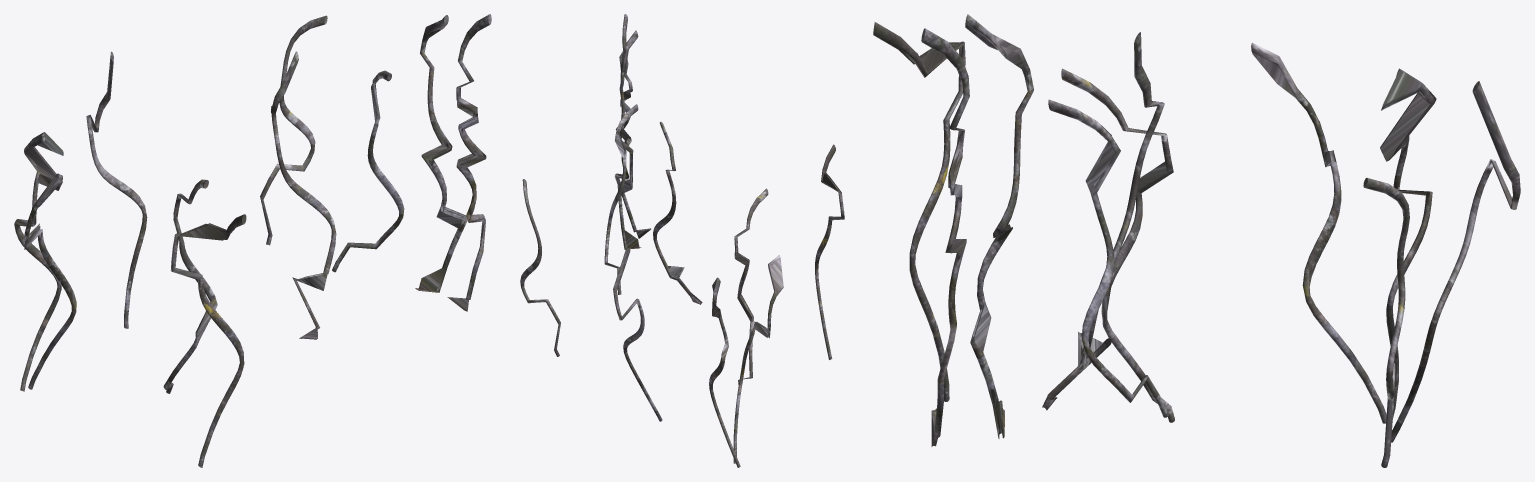
File: gazon_cursed.fbx
3 renders of one model, left to right at view 1: azimuth 30°, elevation 25°; view 2: azimuth 150°, elevation 25°; view 3: azimuth 270°, elevation 25°, orthographic. The views are drawn at different scales.
Visible parts, largest first — view 1: pasted__noodles2; view 2: pasted__noodles2; view 3: pasted__noodles2.
Boxes of the visible parts, box(x1,y1,x2,y2) form: pasted__noodles2: box(14, 14, 491, 467); pasted__noodles2: box(520, 14, 844, 467); pasted__noodles2: box(873, 14, 1520, 467).
Size of the model in its own units: 10.15 by 12.02 by 11.46.
